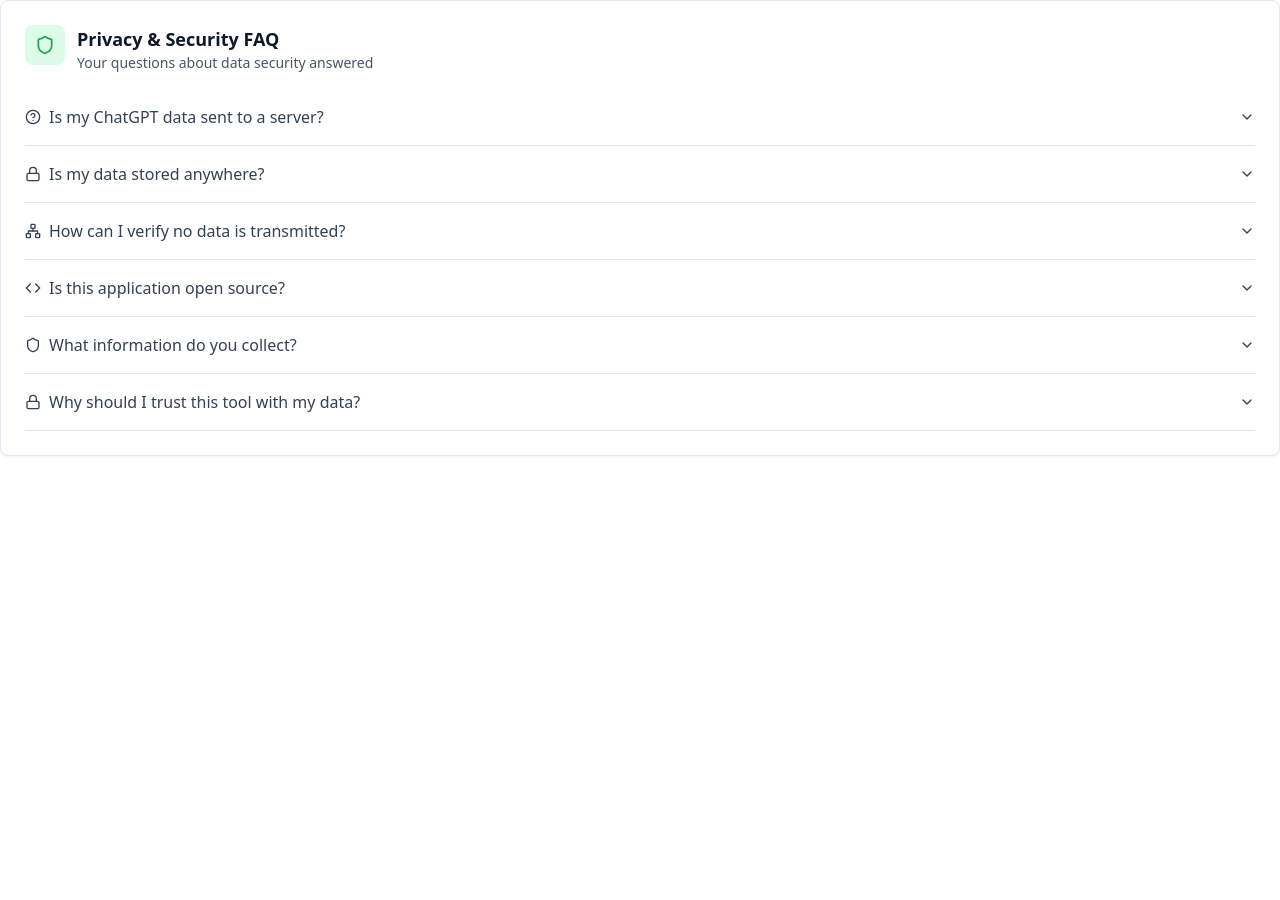
Test: PrivacyFAQ › explains what data is not collected
The image size is (1280, 900).
Click the button "What information do you collect?": [173, 345] box [25, 317, 1255, 373]
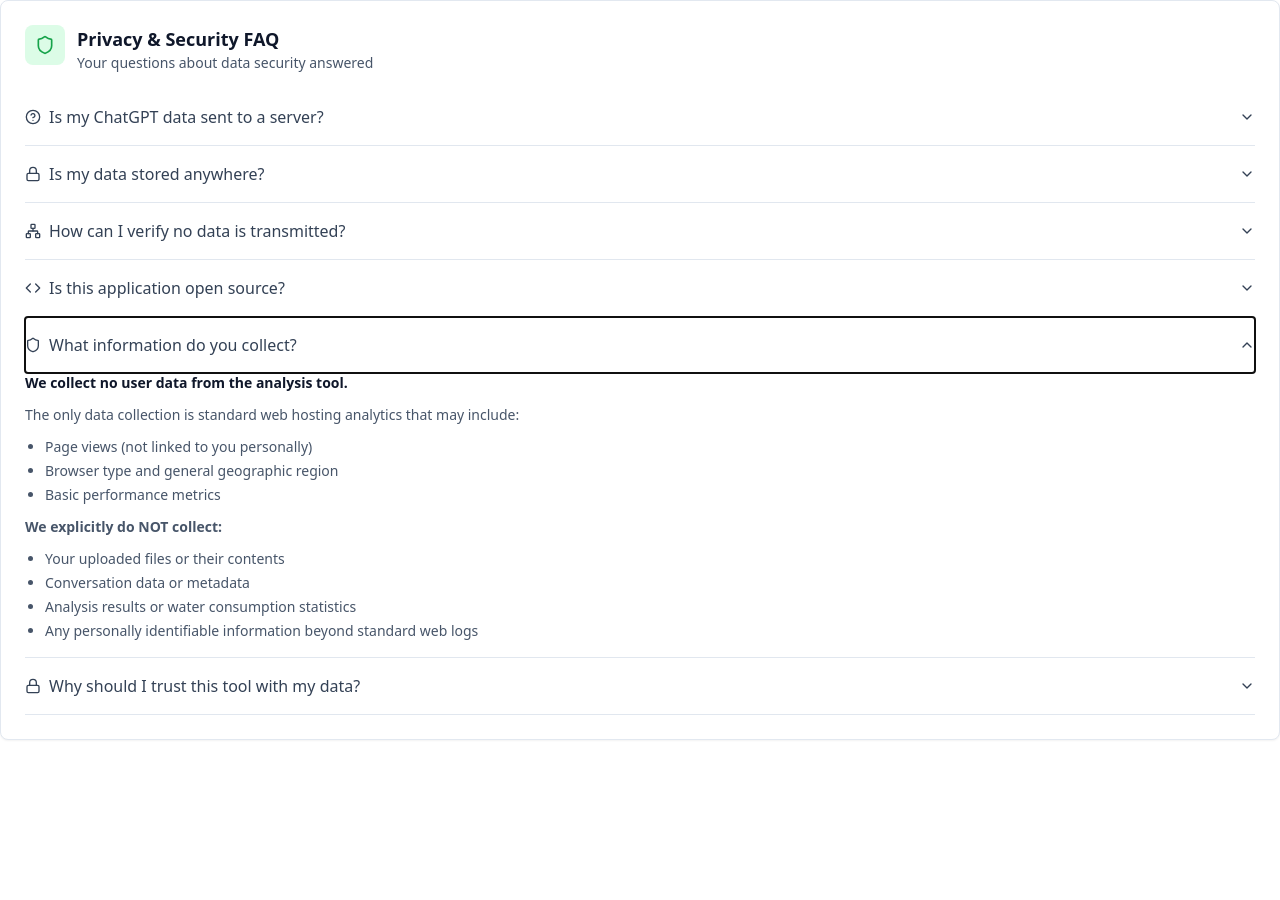
Now the text "We explicitly do NOT collect:" is shown, box [25, 517, 222, 536]
Now the list item "Your uploaded files or their contents" is shown, box [45, 549, 285, 568]
Now the list item "Conversation data or metadata" is shown, box [45, 573, 250, 592]
